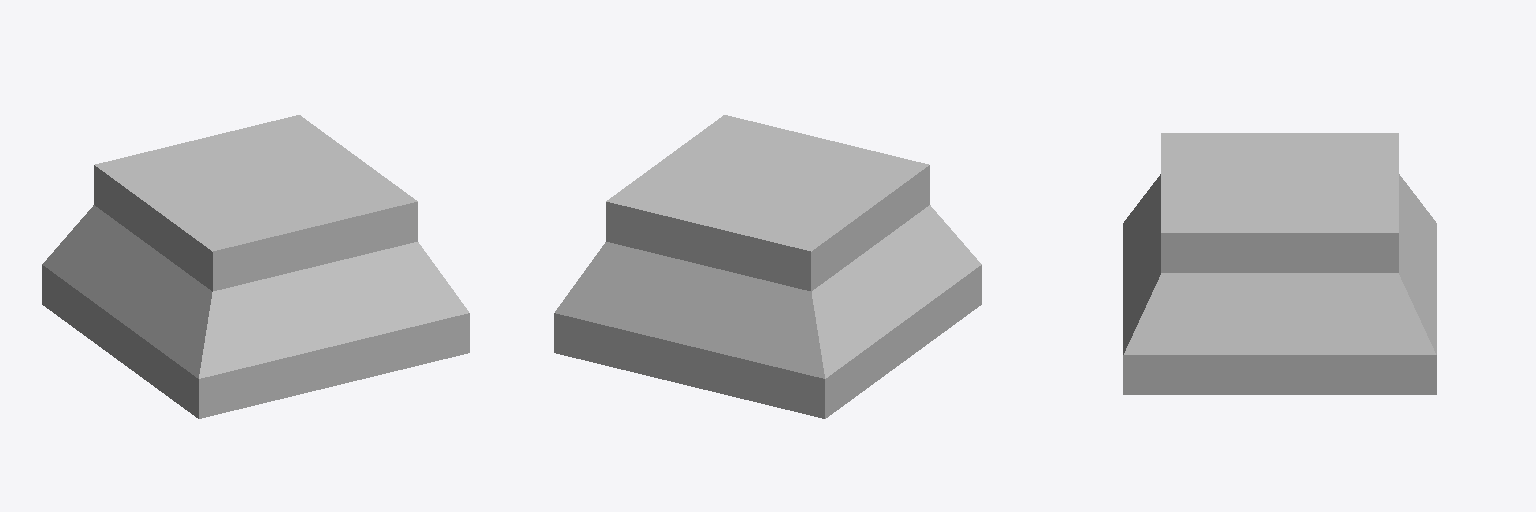
File: tile_037.obj
3 views of the same model, side by side, from view 1: azimuth 30°, elevation 25°; view 2: azimuth 150°, elevation 25°; view 3: azimuth 270°, elevation 25° (orthographic).
Parts seen in each view (by area): view 1: tile_037; view 2: tile_037; view 3: tile_037.
Part boxes in pixels (left/top/right/bottom): tile_037: left=42, top=115, right=469, bottom=418; tile_037: left=554, top=115, right=981, bottom=418; tile_037: left=1123, top=133, right=1436, bottom=394.
Bounding box in the file's own units: 0.7789 × 0.4 × 0.7789.